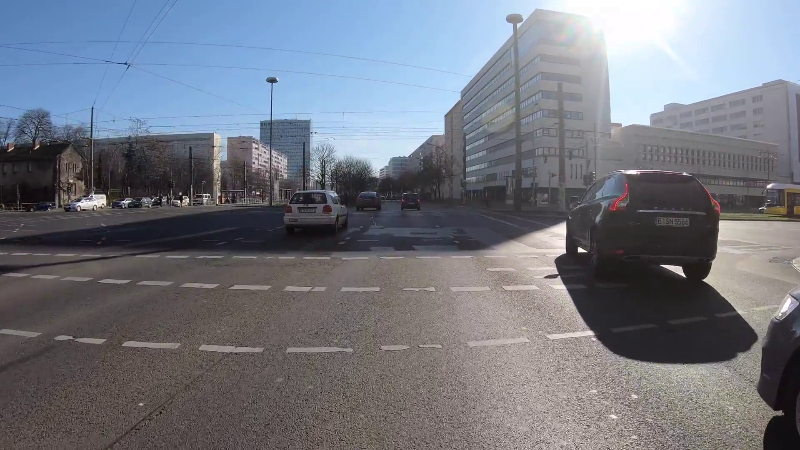Plate: (649, 214, 697, 230), (296, 206, 319, 214)
